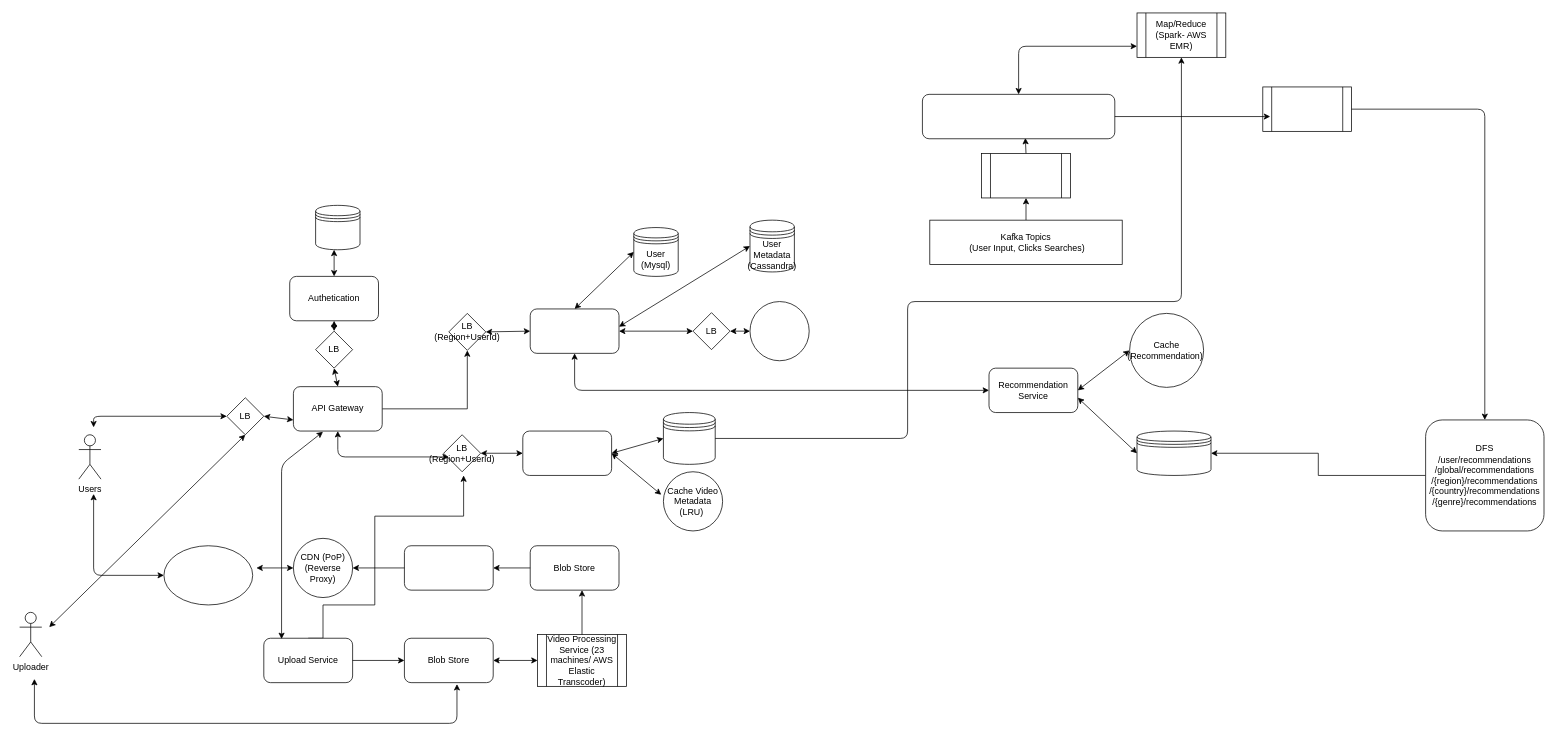
Image size: 1557x743. Some labels were removed from this diagram. Here are the shapes that lost their labels. From the top down, the centre of each, then its label:
At point 1018,116: "Distributed File System /userid/{clicks|searches|watched}/".
At point 1307,108: "AI/ML".
At point 1025,175: "Consumer Process".
At point 337,227: "Authentication (MySQL)".
At point 574,330: "API Server (User/User metadata)".
At point 779,331: "Cache User metadata (LRU)".
At point 567,452: "Video Service".
At point 689,438: "Cassandra".
At point 1173,452: "Recommendations (Cassandra/AWS Redshift)".
At point 208,575: "IXP".
At point 448,567: "Cache Populator".
